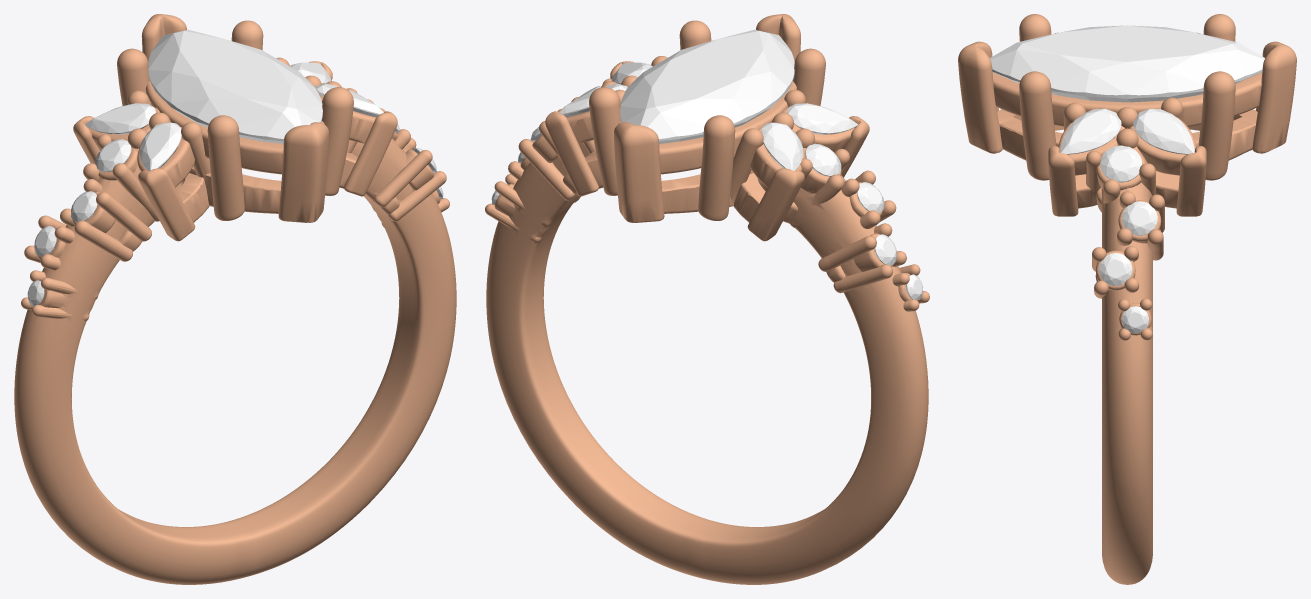
3 renders of one model, left to right at view 1: azimuth 30°, elevation 25°; view 2: azimuth 150°, elevation 25°; view 3: azimuth 270°, elevation 25°, orthographic.
Size of the model in its own units: 2.45 by 2.72 by 1.62.
